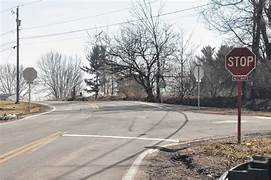stop: (224, 47, 256, 75)
